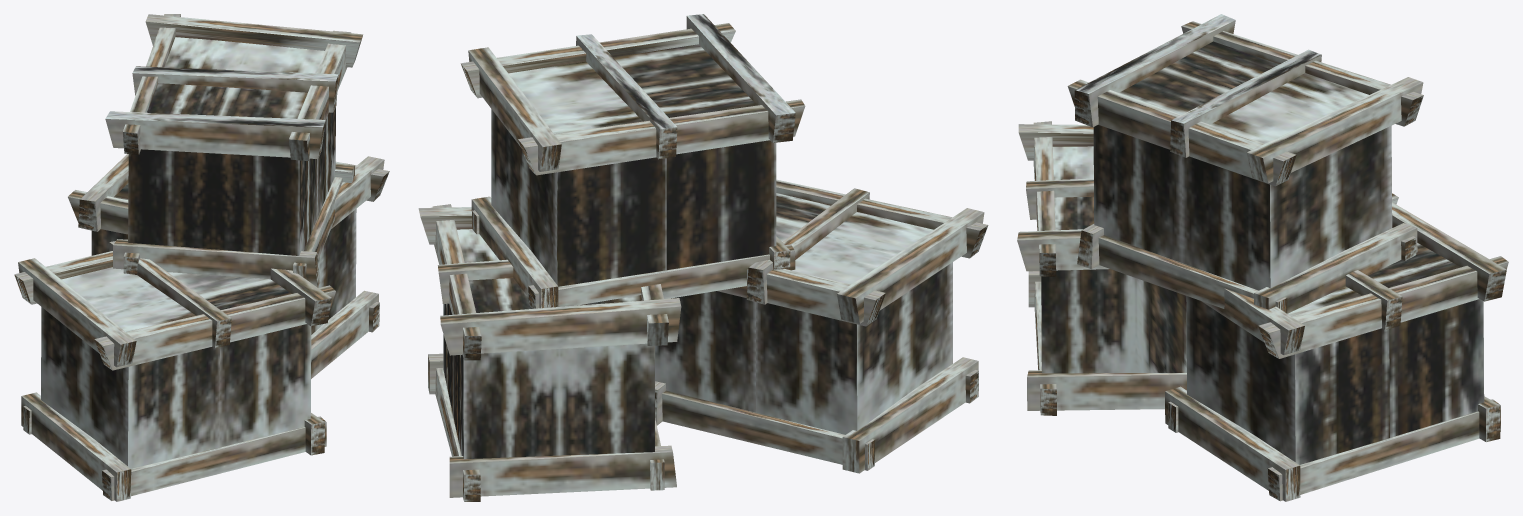
File: S_Build_Snowland116.FBX
3 views of the same model, side by side, from view 1: azimuth 30°, elevation 25°; view 2: azimuth 150°, elevation 25°; view 3: azimuth 270°, elevation 25° (orthographic). The views are drawn at different scales.
Parts seen in each view (by area): view 1: S_Build_Snowland116; view 2: S_Build_Snowland116; view 3: S_Build_Snowland116.
Boxes of the visible parts, x1,y1,x2,y2 form: S_Build_Snowland116: (14,14,389,501); S_Build_Snowland116: (418,14,988,501); S_Build_Snowland116: (1017,14,1508,501).
Bounding box in the file's own units: 289 × 283 × 211.
